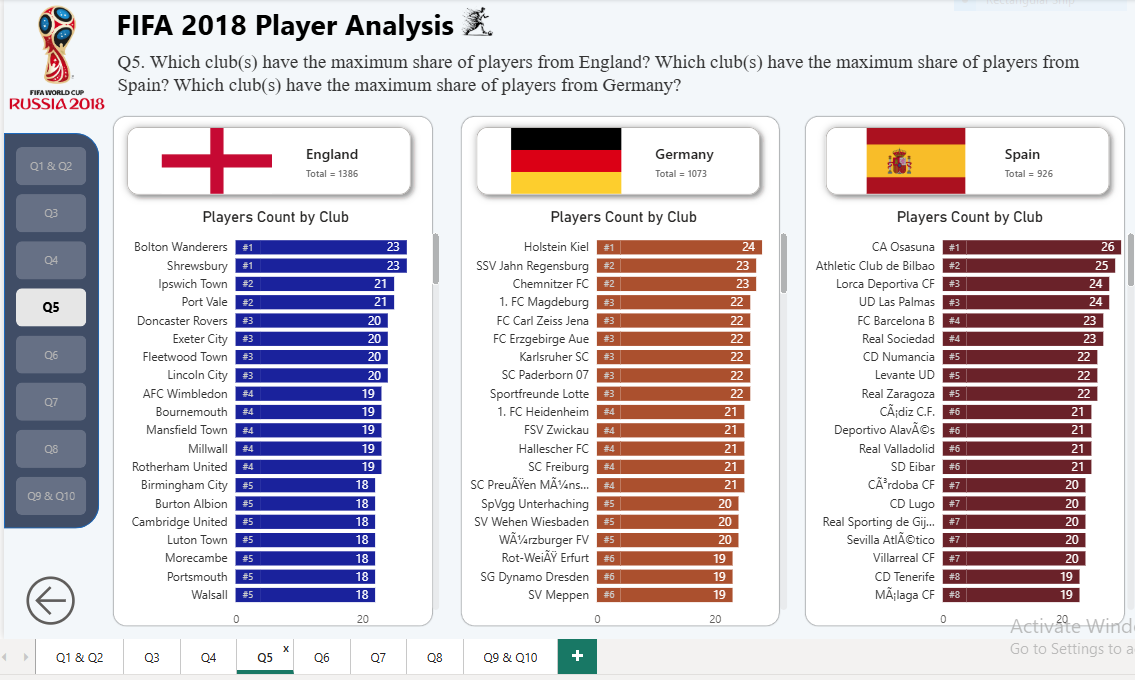

What the dashboard file says about the page in this screenshot:
{"tool":"powerbi","page":{"name":"Q5","canvas":[1280,720],"ordinal":3},"visuals":[{"type":"shape","box":[900.1,130,362.1,576.3],"z":0},{"type":"shape","box":[0,150.4,107.1,444.9],"z":1000,"group":"g1"},{"type":"shape","box":[512.5,130,360.8,576.3],"z":1000},{"type":"shape","box":[121.1,130,362.1,576.3],"z":2000},{"type":"textbox","box":[121.1,0,402.9,53.5],"z":3000},{"type":"barChart","title":"Players Count by Club","fields":{"Category":["FIFA 2018 Dataset.Club"],"Y":["FIFA 2018 Dataset.England Dummy","FIFA 2018 Dataset.Players Count"]},"box":[121.1,234.6,376.1,478.1],"z":4000},{"type":"barChart","title":"Players Count by Club","fields":{"Category":["FIFA 2018 Dataset.Club"],"Y":["FIFA 2018 Dataset.Club Dummy","FIFA 2018 Dataset.Players Count"]},"box":[901.4,234.6,378.6,478.1],"z":5000},{"type":"barChart","title":"Players Count by Club","fields":{"Category":["FIFA 2018 Dataset.Club"],"Y":["FIFA 2018 Dataset.Club Dummy","FIFA 2018 Dataset.Players Count"]},"box":[512.5,234.6,376.1,478.1],"z":6000},{"type":"textbox","box":[122.4,53.5,1141,63.7],"z":7000},{"type":"pageNavigator","box":[14,165.7,79,415.6],"z":8000,"group":"g1"},{"type":"advancedSlicerVisual","fields":{"Values":["FIFA 2018 Dataset.Nationality"]},"box":[121.1,127.5,1141,110.9],"z":8000},{"type":"image","box":[0,0,119.8,130],"z":9000},{"type":"image","box":[484.5,0,95.6,50],"z":10000},{"type":"group","id":"g1","title":"Group 1","box":[0,150.4,107.1,444.9],"z":10001},{"type":"actionButton","box":[17.8,642.5,70.1,68.8],"z":10002}]}

Visuals, with their boxes on the page's 1280x720 design canvas (x1, y1, x2, y2). These are canvas units, not pixel positions in the 1135x680 screenshot, which may show the page scaled, cropped or inside an application window:
shape: 900,130,1262,706
shape: 0,150,107,595
shape: 512,130,873,706
shape: 121,130,483,706
textbox: 121,0,524,54
"Players Count by Club" barChart: 121,235,497,713
"Players Count by Club" barChart: 901,235,1280,713
"Players Count by Club" barChart: 512,235,889,713
textbox: 122,54,1263,117
pageNavigator: 14,166,93,581
advancedSlicerVisual - FIFA 2018 Dataset.Nationality: 121,128,1262,238
image: 0,0,120,130
image: 484,0,580,50
"Group 1" group: 0,150,107,595
actionButton: 18,642,88,711
